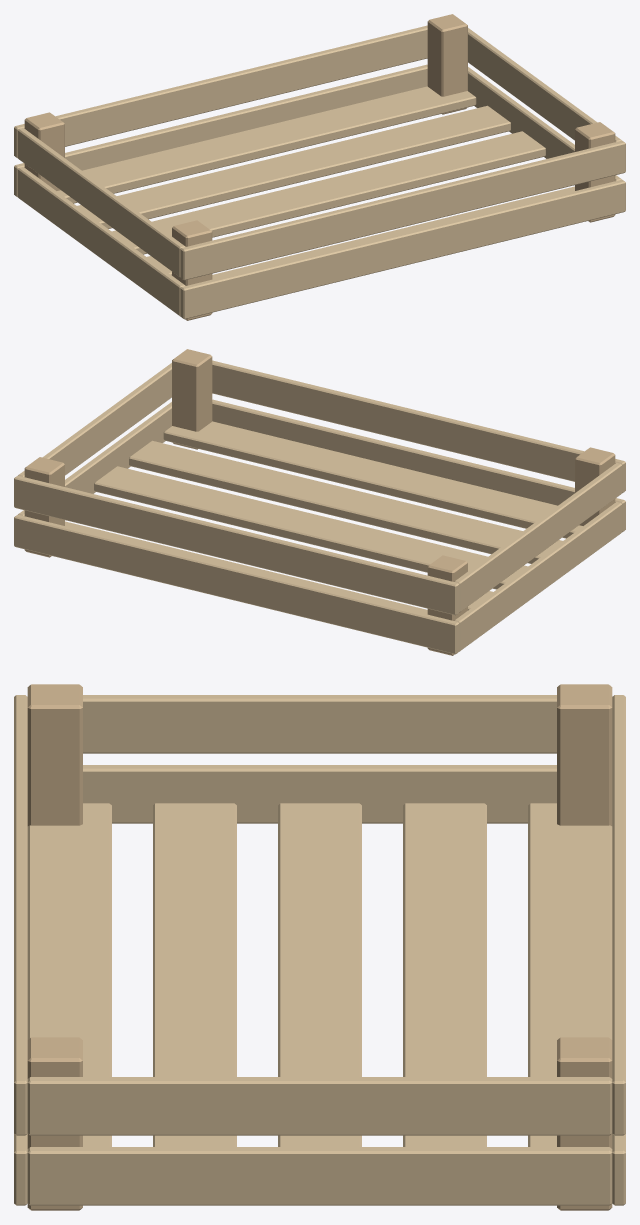
File: fresh-produce-and-groceries-wooden-crate-shallow-22d8a481__24448.glb
The picture shows the model from 3 angles, top to bottom: view 1: azimuth 30°, elevation 25°; view 2: azimuth 150°, elevation 25°; view 3: azimuth 270°, elevation 25°; orthographic projection. The views are drawn at different scales.
Parts seen in each view (by area): view 1: wooden-crate-shallow; view 2: wooden-crate-shallow; view 3: wooden-crate-shallow.
Part boxes in pixels (x1=…): wooden-crate-shallow: x1=14, y1=14, x2=625, y2=320; wooden-crate-shallow: x1=14, y1=349, x2=625, y2=655; wooden-crate-shallow: x1=14, y1=684, x2=625, y2=1210.
Size of the model in its own units: 0.6 by 0.11 by 0.4.
